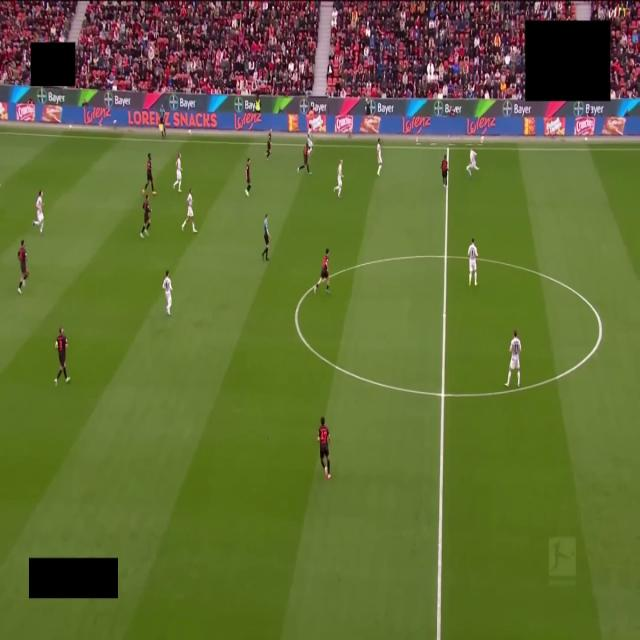ball: (467, 166, 469, 170)
player: (505, 330, 521, 387), (55, 327, 70, 384), (318, 417, 331, 479), (314, 248, 330, 293), (182, 189, 197, 233), (142, 153, 156, 195), (18, 240, 28, 294), (140, 195, 151, 238), (32, 191, 43, 234), (162, 271, 172, 315), (468, 239, 477, 286), (298, 144, 310, 175), (173, 153, 181, 192), (467, 149, 478, 177), (334, 160, 342, 198), (441, 155, 448, 188), (245, 158, 251, 196), (377, 139, 382, 175), (266, 130, 271, 159), (307, 130, 312, 154)
referee: (262, 215, 270, 261)
